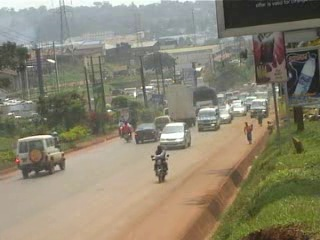Car: (13, 132, 67, 179), (157, 120, 194, 152), (134, 120, 163, 144), (153, 114, 176, 130), (215, 102, 235, 118), (229, 103, 248, 116), (217, 107, 232, 123)
Motorcycle: (150, 147, 170, 183), (118, 120, 134, 144)
